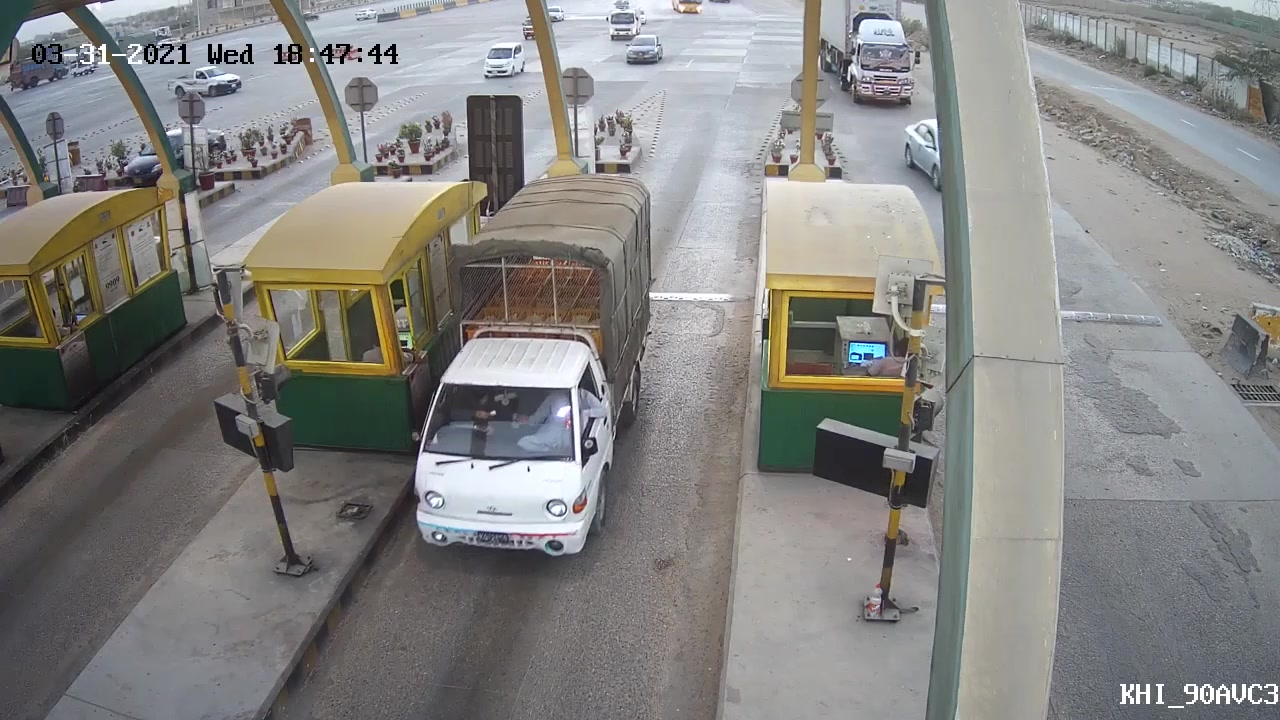F2: (399, 221, 651, 564)
